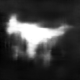plane: (3, 12, 75, 65)
